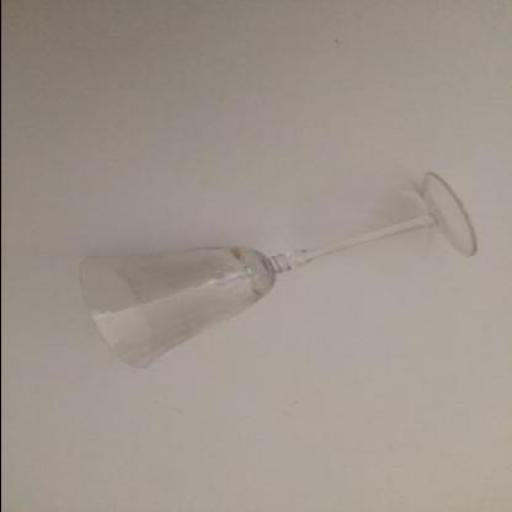glass: (78, 173, 480, 370)
